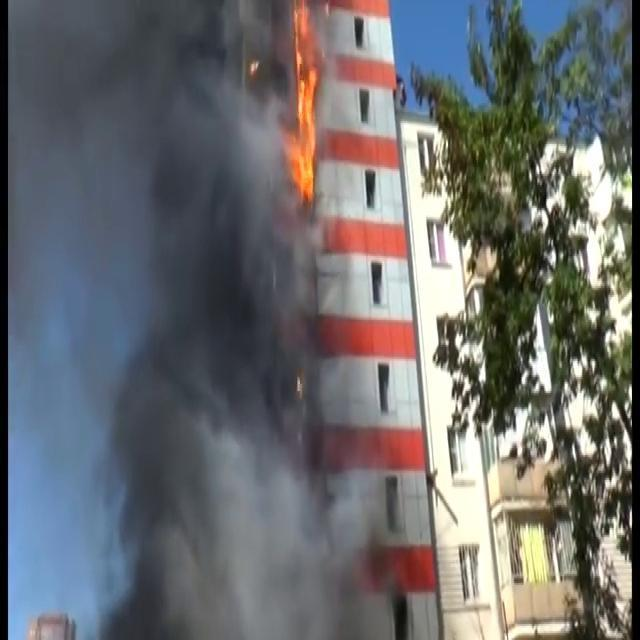Fire: (286, 5, 324, 203)
Smoke: (8, 1, 345, 639)
